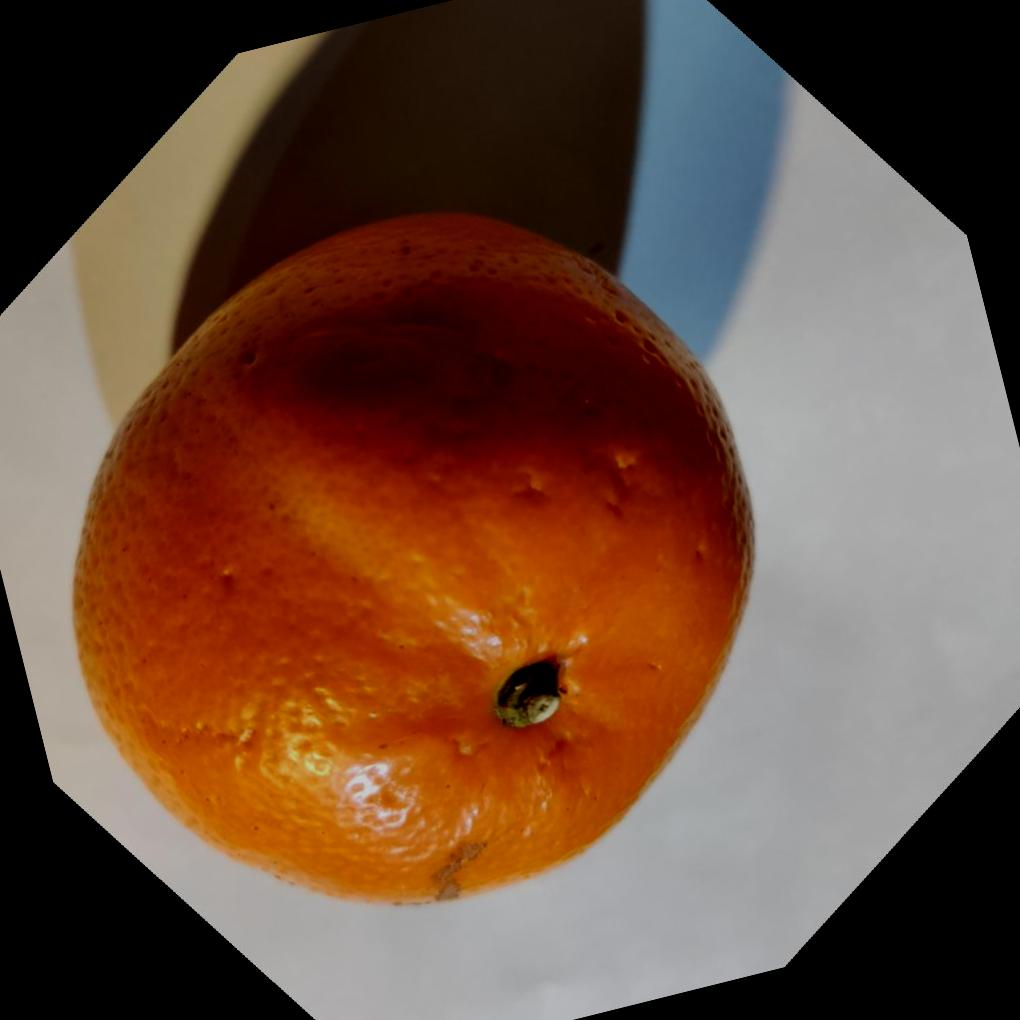FreshGuava: (69, 206, 755, 906)
